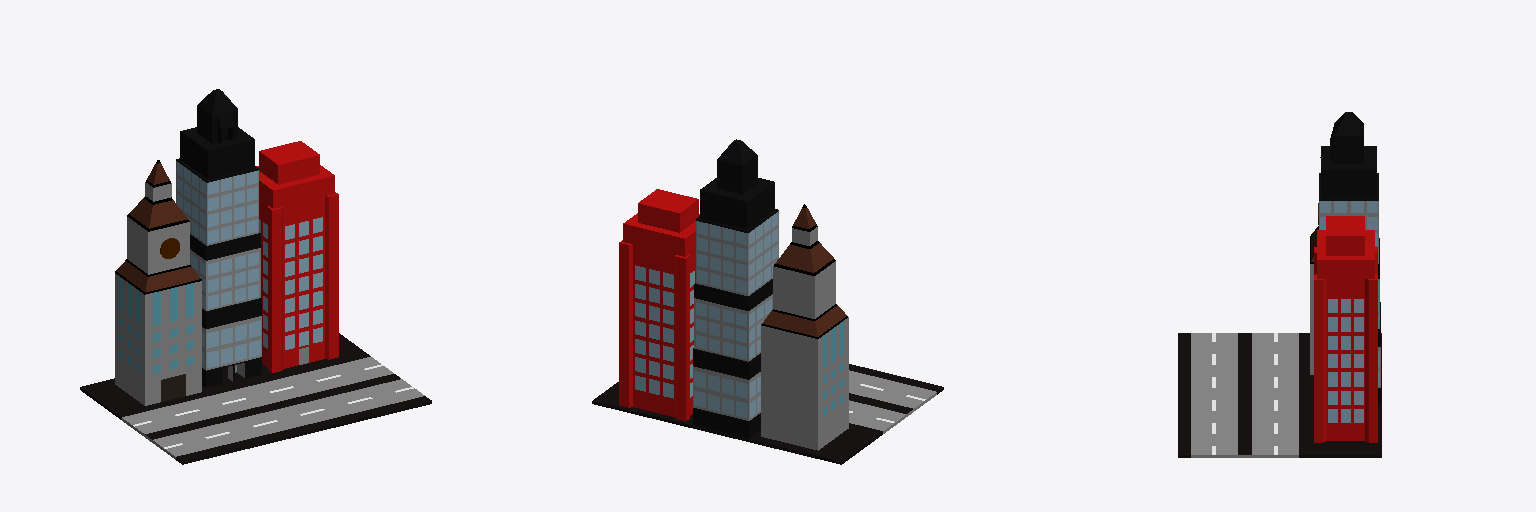
File: Towers.obj
The picture shows the model from 3 angles: view 1: azimuth 30°, elevation 25°; view 2: azimuth 150°, elevation 25°; view 3: azimuth 270°, elevation 25°; orthographic projection.
Parts seen in each view (by area): view 1: Box004, Box001, Box002, Cylinder001; view 2: Box001, Cylinder001, Box002, Box004; view 3: Box004, Box002, Box001, Cylinder001.
Boxes of the visible parts, x1=… form: Box004: x1=80, y1=333, x2=431, y2=464; Box001: x1=176, y1=89, x2=261, y2=387; Box002: x1=256, y1=141, x2=338, y2=372; Cylinder001: x1=115, y1=160, x2=201, y2=405; Box001: x1=693, y1=139, x2=778, y2=438; Cylinder001: x1=761, y1=204, x2=848, y2=450; Box002: x1=619, y1=189, x2=699, y2=421; Box004: x1=592, y1=364, x2=943, y2=464; Box004: x1=1178, y1=333, x2=1381, y2=457; Box002: x1=1314, y1=216, x2=1377, y2=442; Box001: x1=1319, y1=112, x2=1380, y2=405; Cylinder001: x1=1310, y1=203, x2=1318, y2=374.
Size of the model in its own units: 263 by 284 by 187.